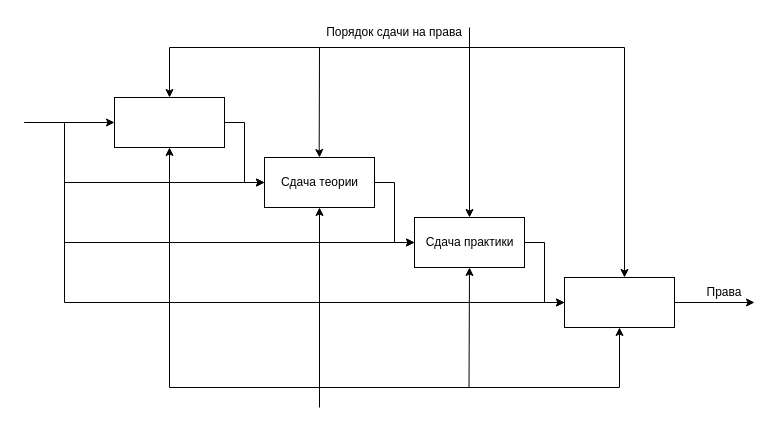
This 780x433 diagram has some shape labels left out. Here are the shapes that lost their labels. From the top down, the box of each, then its label:
(114, 96, 224, 148): Выбор категории прав
(564, 276, 674, 328): Получение прав
